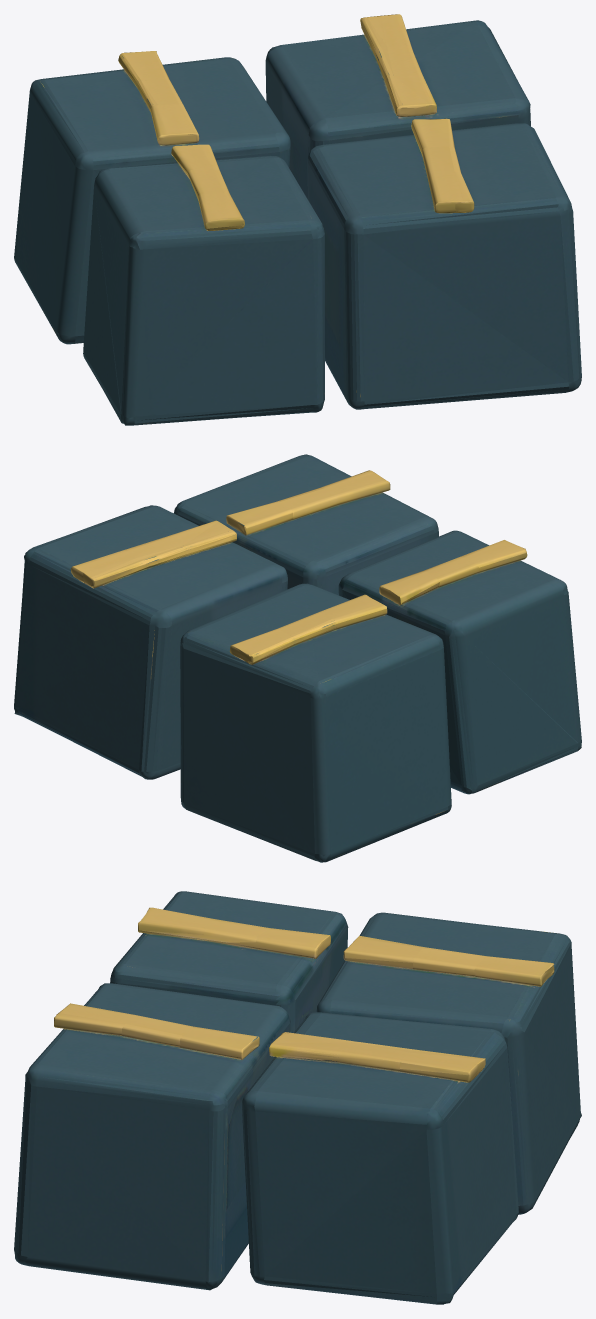
The model's file is depot.glb.
3 renders of one model, top to bottom at view 1: azimuth 30°, elevation 25°; view 2: azimuth 150°, elevation 25°; view 3: azimuth 270°, elevation 25°, orthographic. The views are drawn at different scales.
Size of the model in its own units: 1 by 0.4277 by 0.9668.
1 material, 1 textured.
